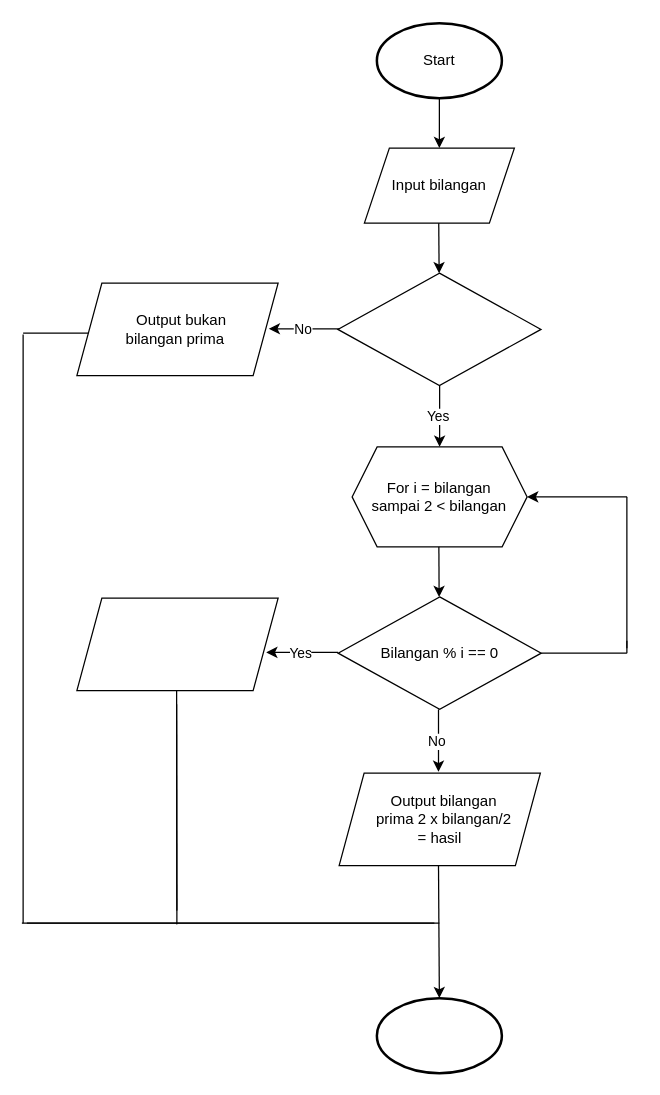
Image size: 660x1095. Some labels were removed from this diagram. Here are the shapes that lost their labels. From the top down, the centre of each, then its label:
At point (439, 329): "Bilangan < 1".
At point (177, 644): "Output bukan bilangan prima 2 x bilangan/2 = hasil".
At point (438, 1035): "End".
